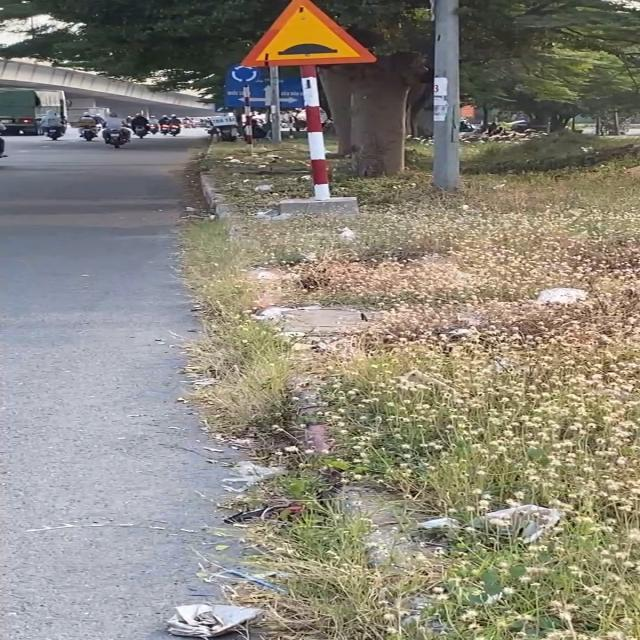221-duong-go-ghe: (240, 2, 378, 70)
303-noi-giao-nhau-chay-theo-vong-xuyen: (228, 64, 264, 84)
